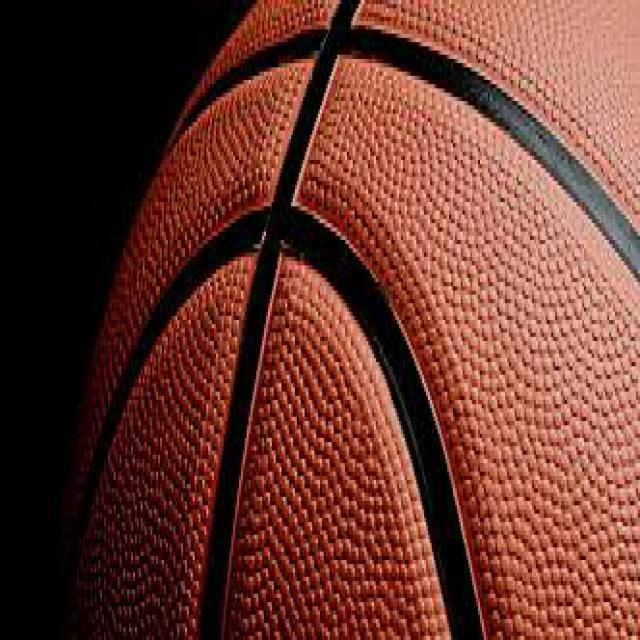basketball: (58, 0, 638, 636)
